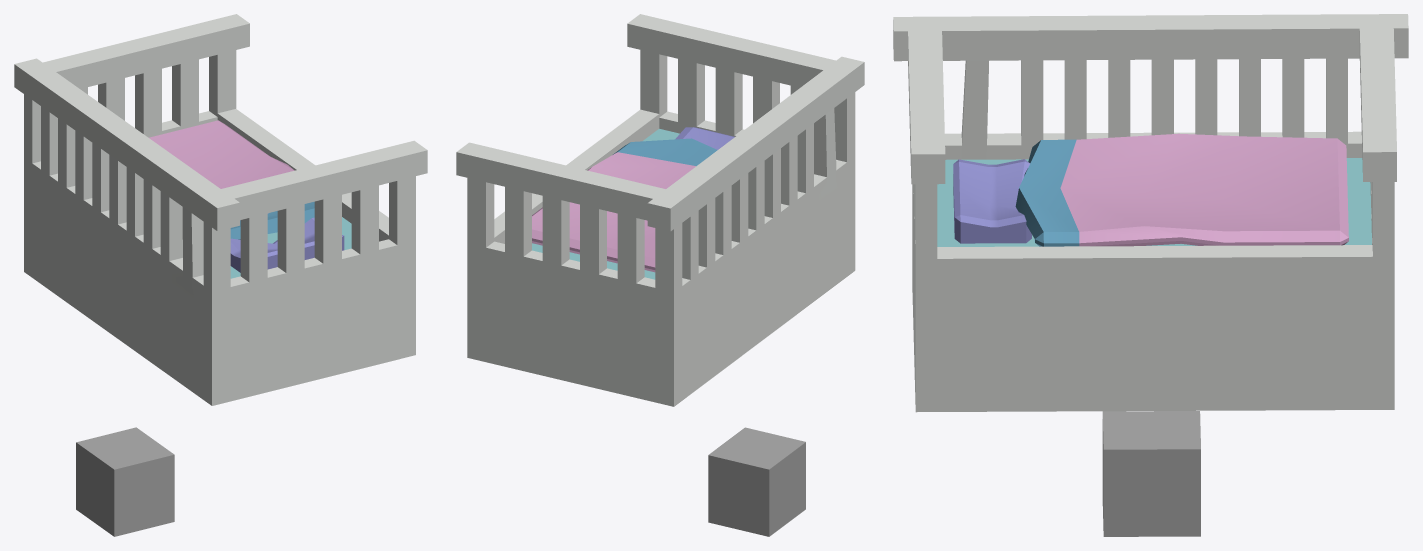
File: crib.fbx
3 views of the same model, side by side, from view 1: azimuth 30°, elevation 25°; view 2: azimuth 150°, elevation 25°; view 3: azimuth 270°, elevation 25° (orthographic). The views are drawn at different scales.
Visible parts, largest first — view 1: crib; view 2: crib; view 3: crib.
Boxes of the visible parts, x1=… form: crib: x1=14, y1=14, x2=427, y2=536; crib: x1=456, y1=14, x2=864, y2=536; crib: x1=893, y1=14, x2=1408, y2=536.
Bounding box in the file's own units: 3.28 × 4.98 × 4.69.
